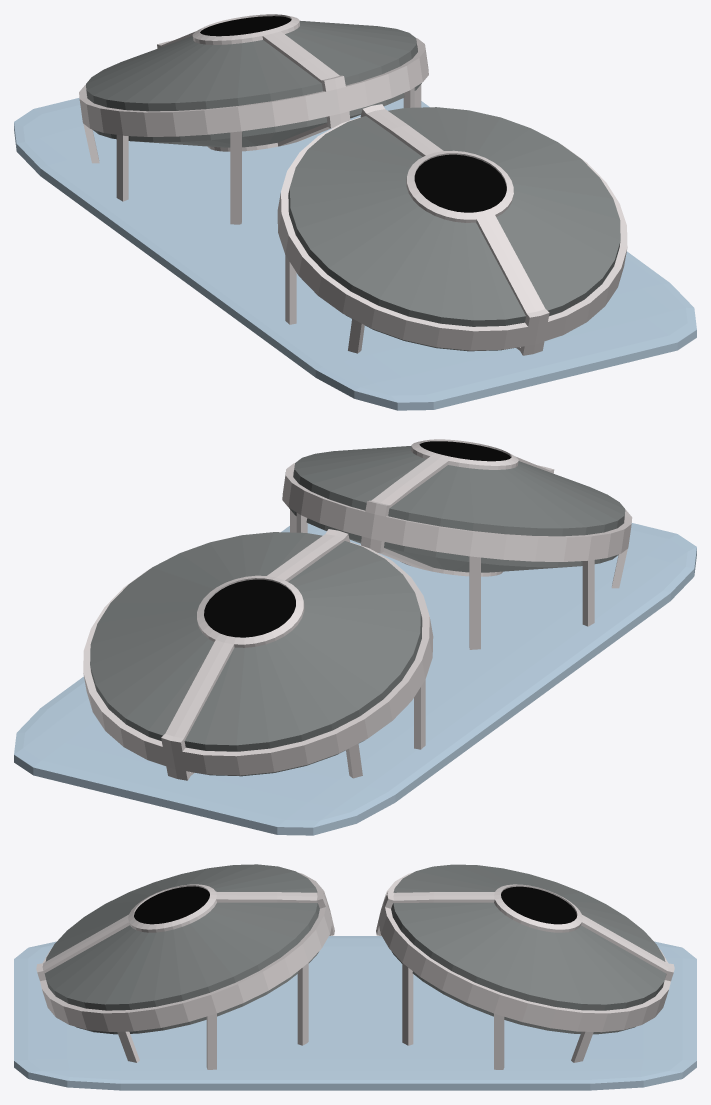
The model's file is Wheels.fbx.
3 renders of one model, top to bottom at view 1: azimuth 30°, elevation 25°; view 2: azimuth 150°, elevation 25°; view 3: azimuth 270°, elevation 25°, orthographic. The views are drawn at different scales.
Parts seen in each view (by area): view 1: Cube, Wheel.001, Wheel.002, Wheel_halterung.001, Wheel_halterung.002, Screen.002, Screen.001; view 2: Cube, Wheel.002, Wheel.001, Wheel_halterung.002, Wheel_halterung.001, Screen.001, Screen.002; view 3: Cube, Wheel.001, Wheel.002, Wheel_halterung.001, Wheel_halterung.002, Screen.001, Screen.002.
Part boxes in pixels (left/top/right/bottom): Cube: left=14, top=98, right=696, bottom=410; Wheel.001: left=288, top=107, right=620, bottom=351; Wheel.002: left=86, top=20, right=421, bottom=147; Wheel_halterung.001: left=277, top=104, right=627, bottom=355; Wheel_halterung.002: left=79, top=14, right=428, bottom=224; Screen.002: left=414, top=154, right=506, bottom=212; Screen.001: left=200, top=16, right=291, bottom=36; Cube: left=14, top=523, right=696, bottom=835; Wheel.002: left=90, top=532, right=422, bottom=776; Wheel.001: left=289, top=445, right=625, bottom=572; Wheel_halterung.002: left=83, top=529, right=433, bottom=780; Wheel_halterung.001: left=282, top=439, right=632, bottom=649; Screen.001: left=204, top=579, right=295, bottom=637; Screen.002: left=419, top=441, right=511, bottom=461; Cube: left=14, top=936, right=696, bottom=1090; Wheel.001: left=44, top=864, right=319, bottom=1034; Wheel.002: left=391, top=864, right=665, bottom=1034; Wheel_halterung.001: left=36, top=872, right=334, bottom=1069; Wheel_halterung.002: left=376, top=872, right=674, bottom=1069; Screen.001: left=501, top=886, right=576, bottom=924; Screen.002: left=134, top=886, right=209, bottom=924.
Size of the model in its own units: 72.15 by 27.97 by 141.
